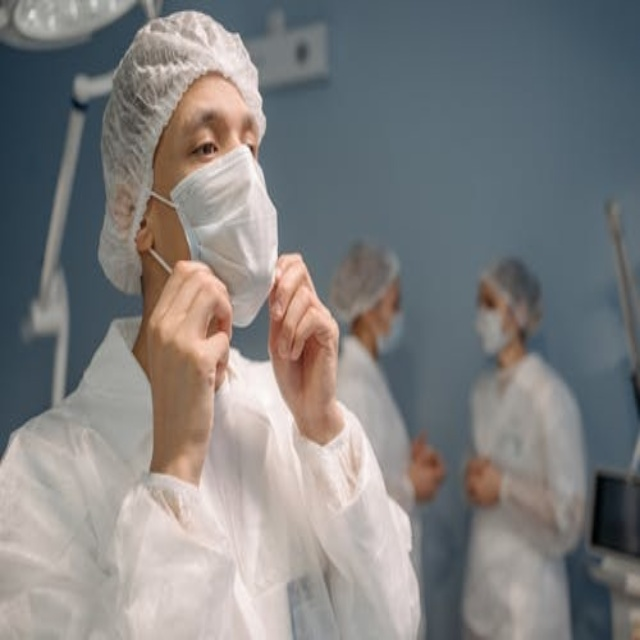Mascara: (154, 144, 279, 325), (474, 304, 511, 356), (374, 307, 404, 355)
Sin_gafas: (175, 128, 265, 174)
Sin_guantes: (405, 433, 447, 506), (464, 455, 501, 508)
